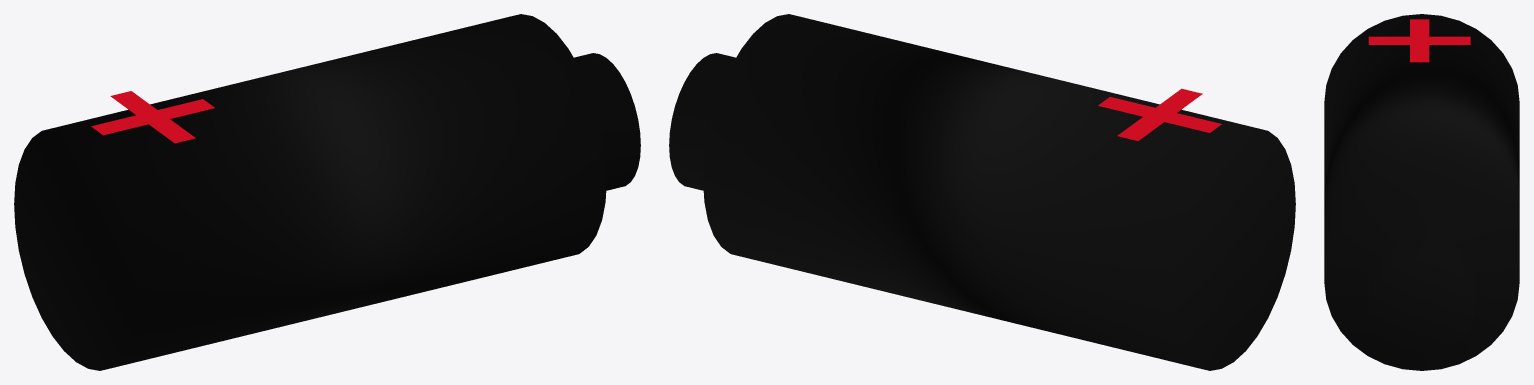
The model's file is battery.fbx.
The picture shows the model from 3 angles, left to right: view 1: azimuth 30°, elevation 25°; view 2: azimuth 150°, elevation 25°; view 3: azimuth 270°, elevation 25°; orthographic projection. The views are drawn at different scales.
Visible parts, largest first — view 1: Plane.001; view 2: Plane.001; view 3: Plane.001.
Part boxes in pixels (bbox=[...]): Plane.001: bbox=[14, 14, 640, 370]; Plane.001: bbox=[669, 14, 1295, 370]; Plane.001: bbox=[1324, 14, 1519, 370].
Bounding box in the file's own units: 385 × 158 × 156.
